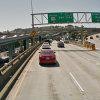Car: (34, 46, 60, 69)
